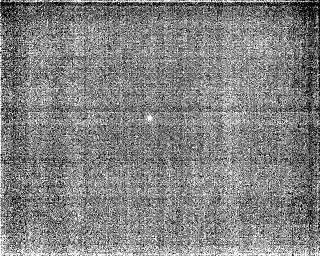BIRD: (145, 112, 155, 124)
